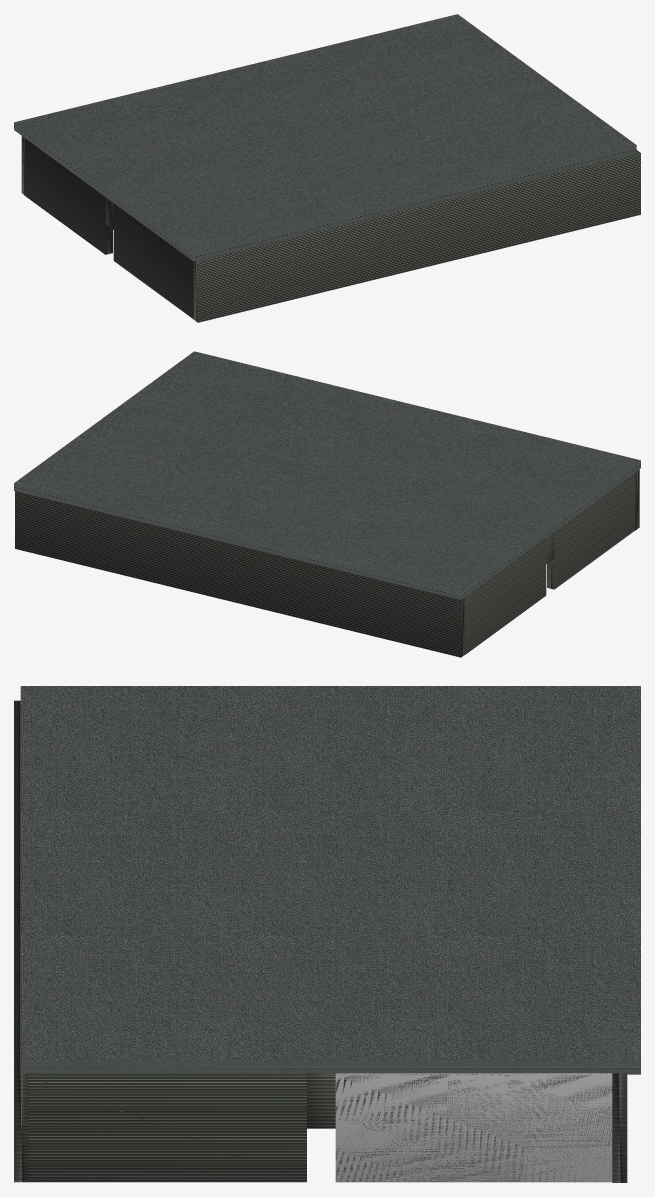
File: paretsHabitacio3.fbx
3 views of the same model, one above another, from view 1: azimuth 30°, elevation 25°; view 2: azimuth 150°, elevation 25°; view 3: azimuth 270°, elevation 25° (orthographic). The views are drawn at different scales.
Parts seen in each view (by area): view 1: Cube_008, Cube_002, Cube_004, Cube_005; view 2: Cube_008, Cube_003, Cube_005, Cube_004; view 3: Cube_008, Cube_010, Cube_011, Cube_002, Cube_003, Cube_009.
Part boxes in pixels (bbox=[...]): Cube_008: bbox=[14, 14, 636, 260]; Cube_002: bbox=[193, 150, 640, 322]; Cube_004: bbox=[24, 138, 112, 254]; Cube_005: bbox=[113, 203, 193, 318]; Cube_008: bbox=[14, 351, 640, 599]; Cube_003: bbox=[15, 491, 464, 657]; Cube_005: bbox=[547, 472, 635, 589]; Cube_004: bbox=[464, 538, 546, 655]; Cube_008: bbox=[20, 686, 640, 1074]; Cube_010: bbox=[26, 1073, 306, 1182]; Cube_011: bbox=[335, 1073, 612, 1182]; Cube_002: bbox=[14, 700, 28, 1182]; Cube_003: bbox=[612, 1073, 627, 1182]; Cube_009: bbox=[307, 1073, 335, 1128].
Size of the model in its own units: 30.25 by 4.45 by 21.22.
